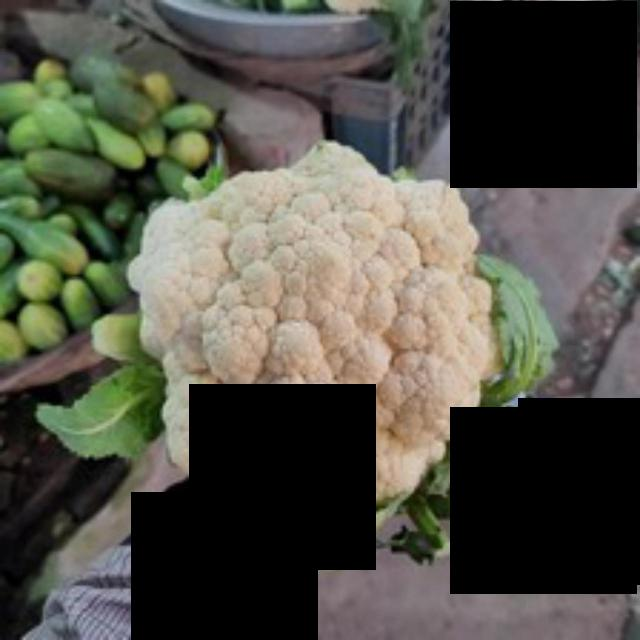cauliflower: (129, 136, 508, 528)
